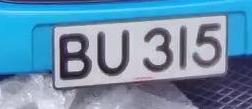1: (173, 19, 195, 77)
3: (140, 23, 177, 77)
5: (190, 18, 226, 72)
B: (55, 28, 97, 83)
U: (92, 25, 134, 78)
